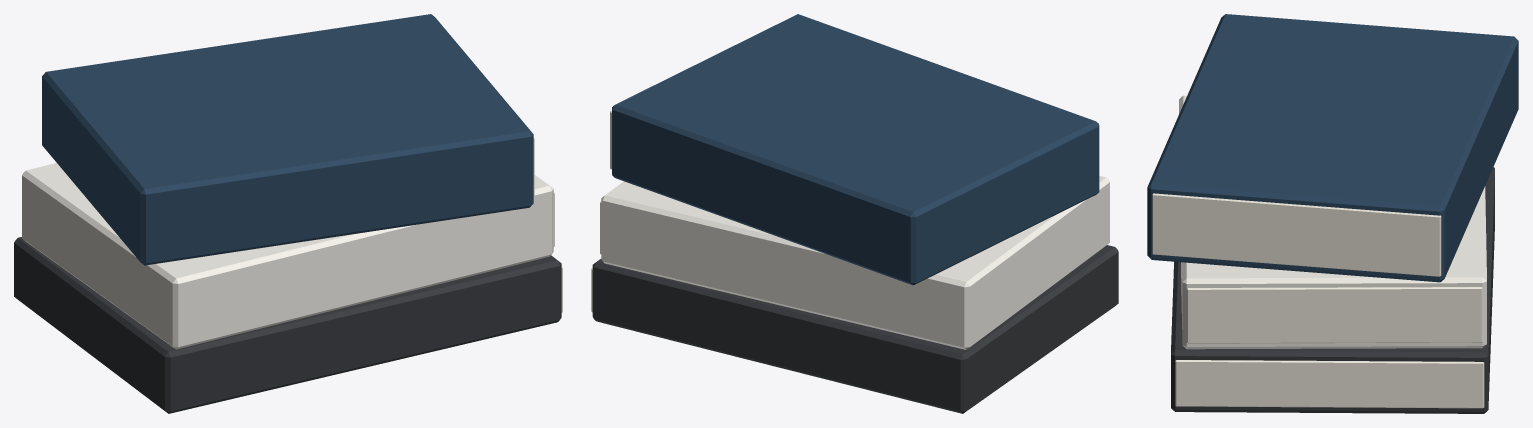
The model's file is i_books_l0.glb.
The picture shows the model from 3 angles, left to right: view 1: azimuth 30°, elevation 25°; view 2: azimuth 150°, elevation 25°; view 3: azimuth 270°, elevation 25°; orthographic projection. The views are drawn at different scales.
Visible parts, largest first — view 1: o.004, o.002, o; view 2: o.004, o.002, o; view 3: o.004, o.005, o.003, o.001, o.002, o.
Part boxes in pixels (<box>): o.004: <box>42,14,533,265</box>; o.002: <box>22,163,553,349</box>; o: <box>14,237,561,413</box>; o.004: <box>612,14,1099,285</box>; o.002: <box>601,176,1109,349</box>; o: <box>592,245,1118,413</box>; o.004: <box>1147,14,1518,282</box>; o.005: <box>1152,193,1441,276</box>; o.003: <box>1186,287,1482,343</box>; o.001: <box>1175,360,1484,408</box>; o.002: <box>1179,95,1486,349</box>; o: <box>1171,167,1494,413</box>.
Size of the model in its own units: 0.2153 by 0.1068 by 0.1719.
